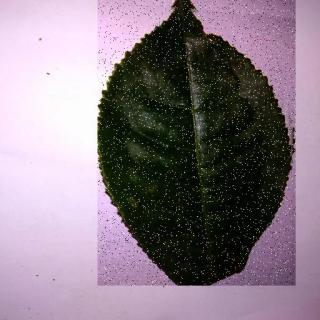Bird Eye Spot: (99, 1, 297, 287)
